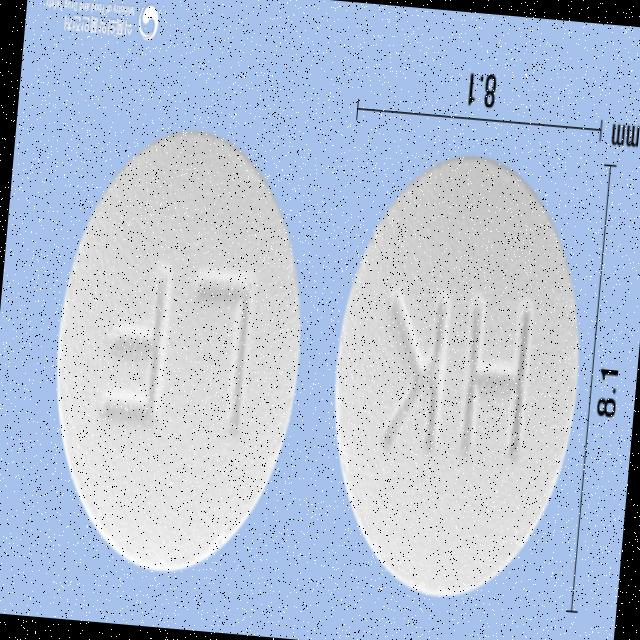Levotacin: (314, 148, 596, 610), (38, 124, 316, 586)
